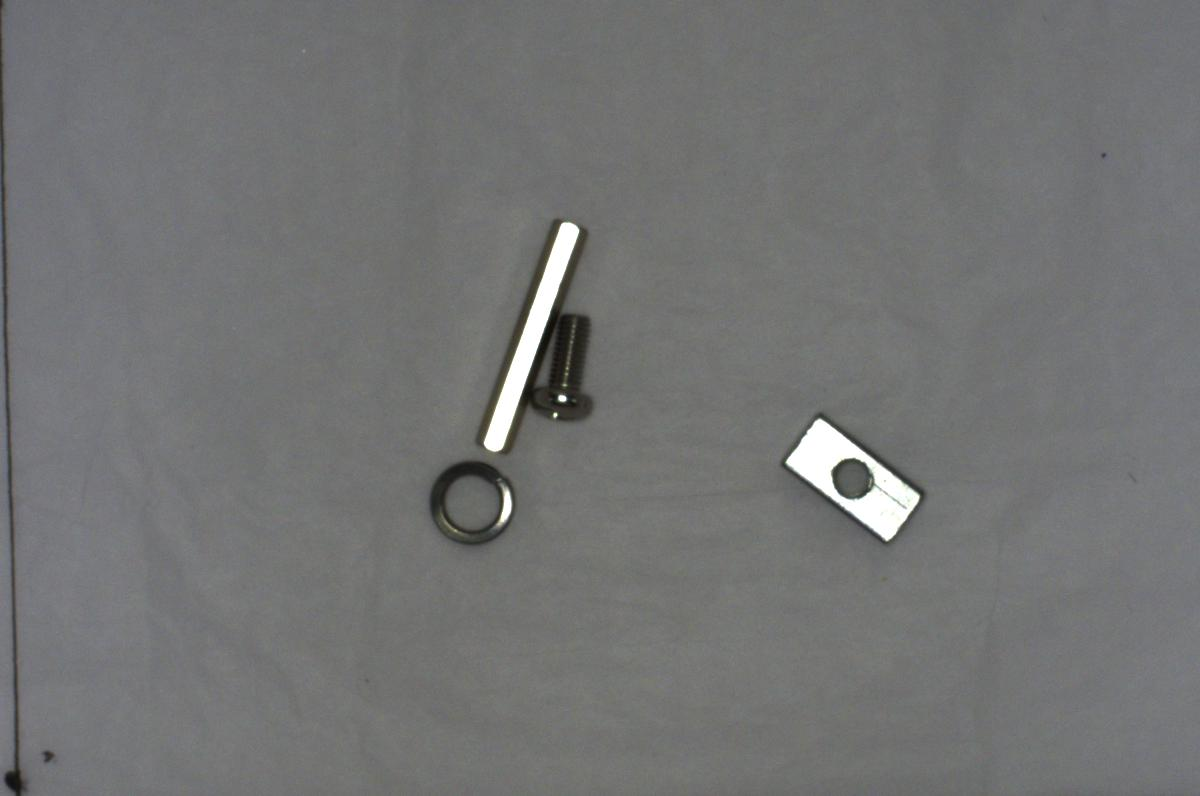Double hexagonal column: (475, 218, 584, 455)
Rectangular nut: (773, 414, 922, 545)
Round head screw: (532, 312, 597, 427)
Spring washer: (422, 456, 518, 550)
